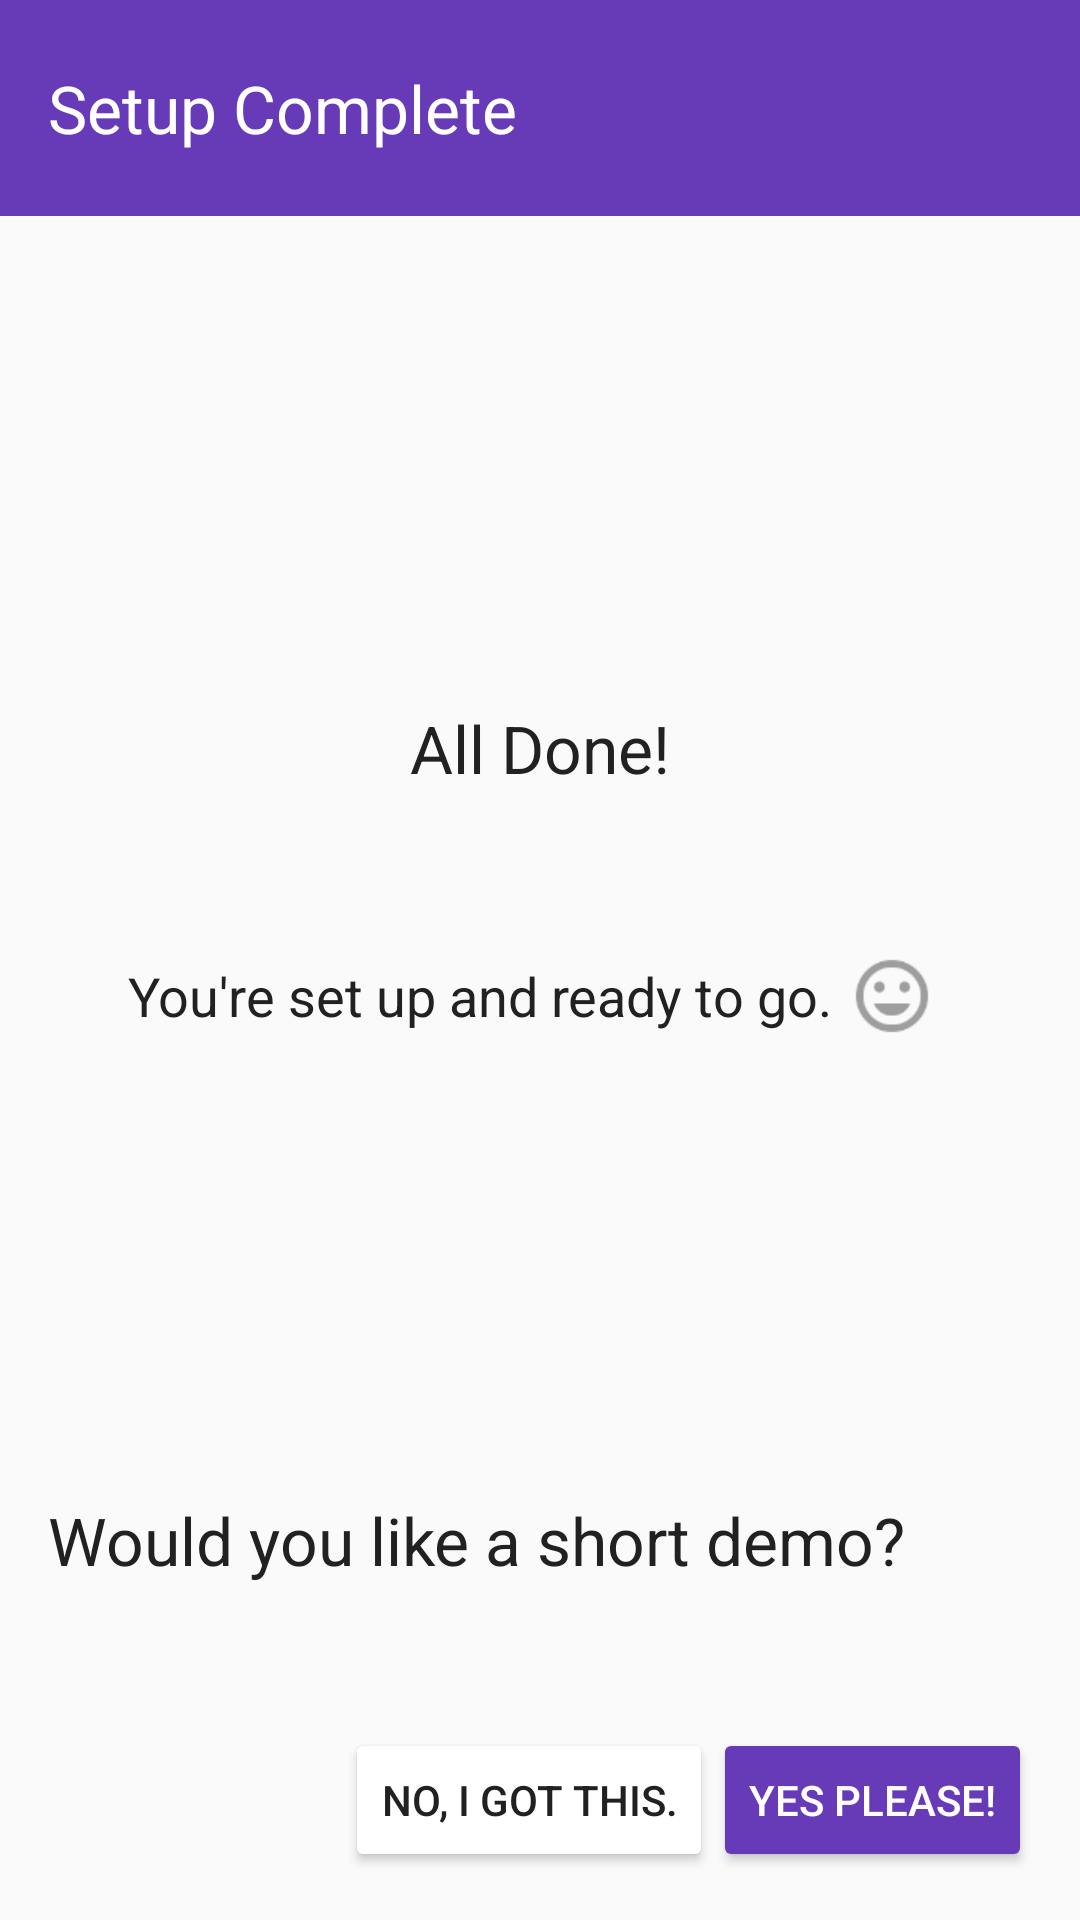

Where to tap for icons on this 1080*1920 app screen, as [x,y]:
mood: [892,996]
